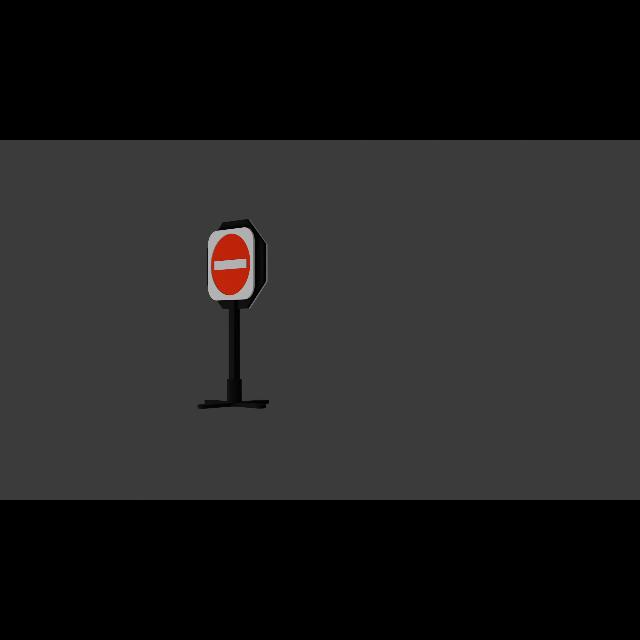sign_noentry: (211, 233, 253, 298)
